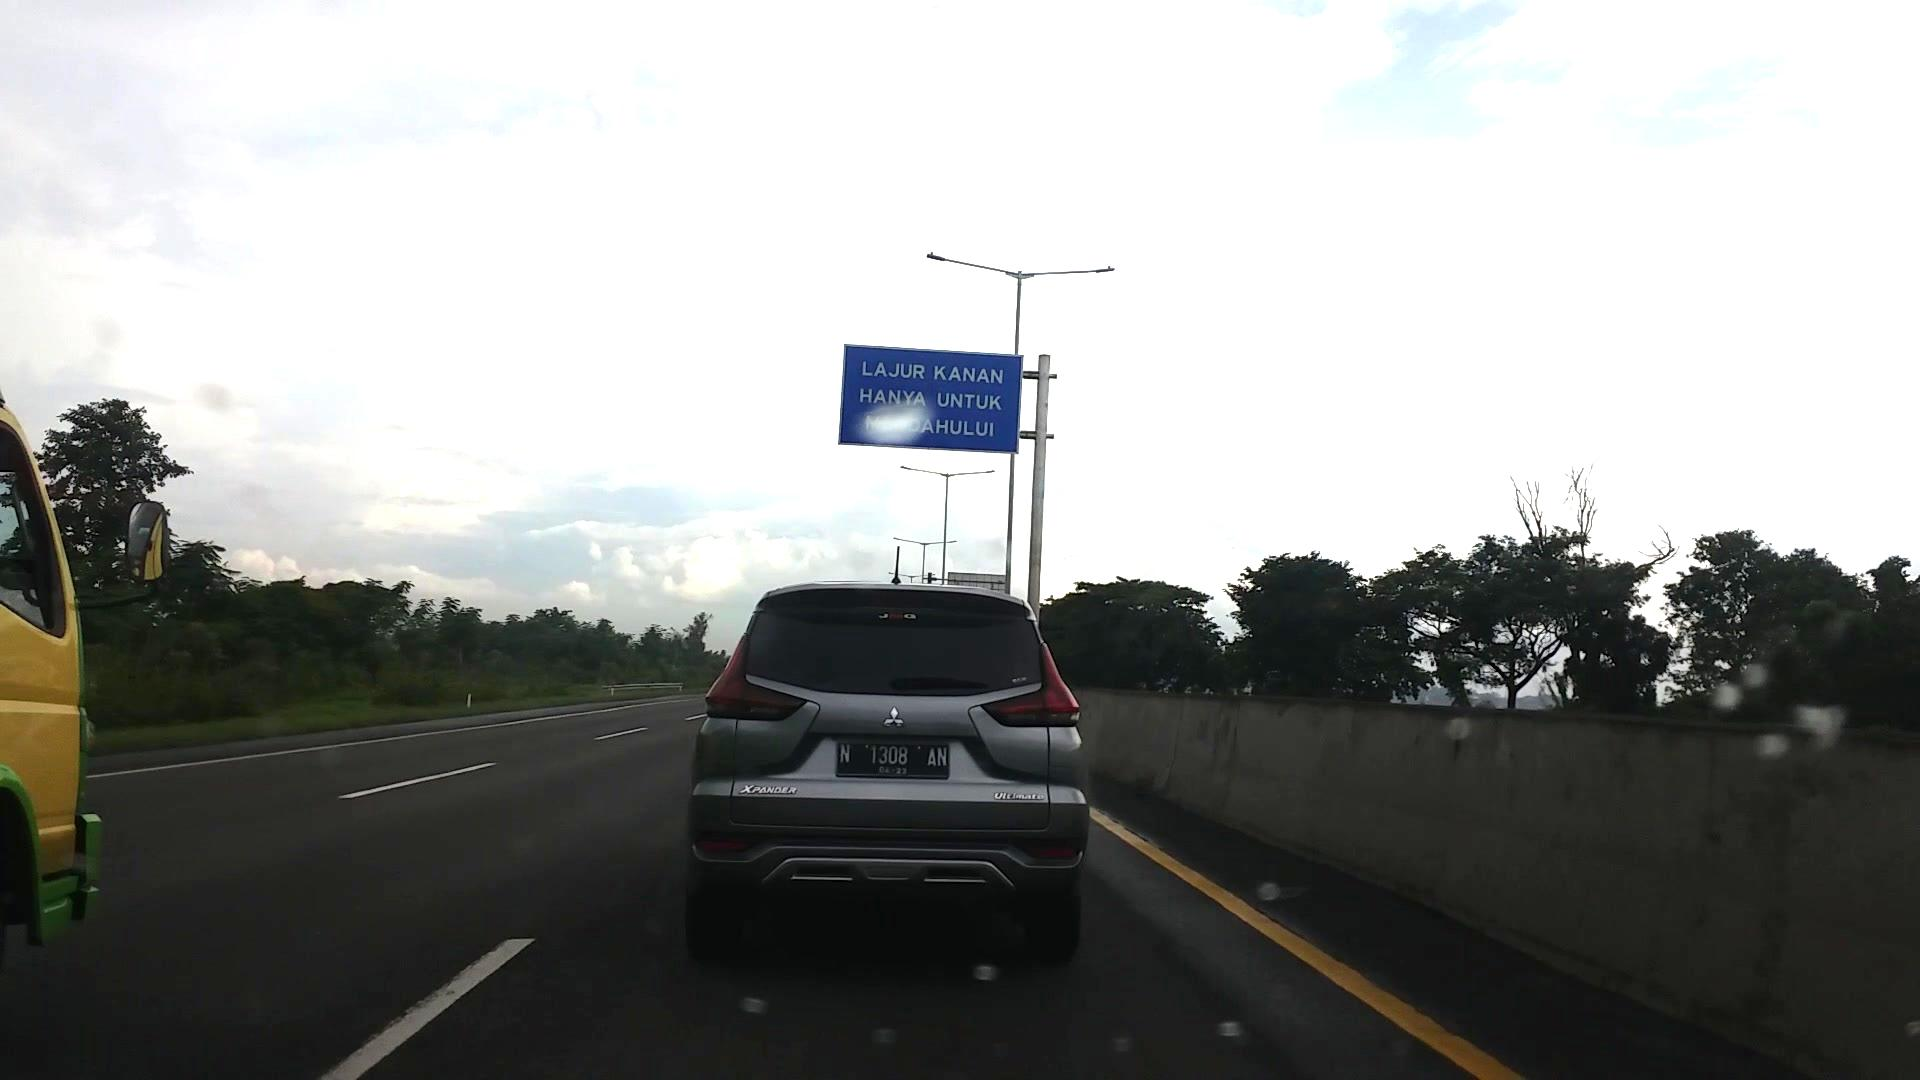plate_positive: (836, 742, 949, 779)
